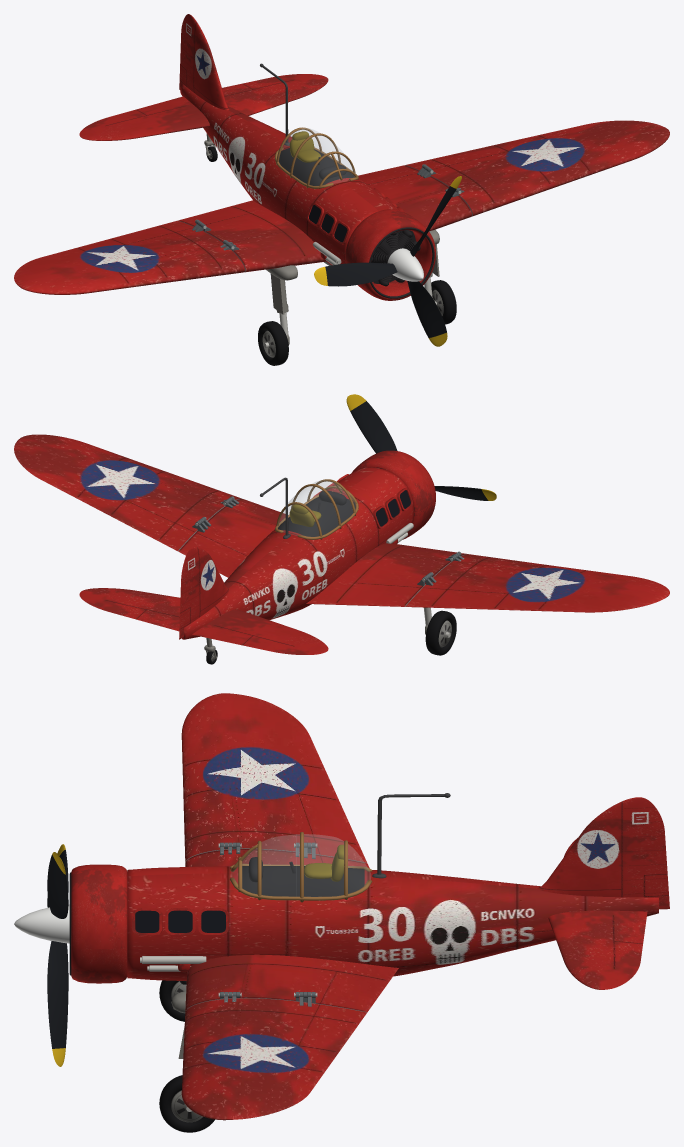
File: enemy_foldwing.glb
3 renders of one model, top to bottom at view 1: azimuth 30°, elevation 25°; view 2: azimuth 150°, elevation 25°; view 3: azimuth 270°, elevation 25°, orthographic. The views are drawn at different scales.
Visible parts, largest first — view 1: Wings_Outer_L, Wings_Outer_R, Fuselage, Wings, Tailplane, Propeller, Cowling, TailFin, Canopy_Glass, Cockpit, Canopy_Frame, Wheel_Main_R (+4 smaller); view 2: Fuselage, Wings_Outer_L, Wings_Outer_R, Wings, Tailplane, TailFin, Canopy_Glass, Cowling, Propeller, Cockpit, Canopy_Frame, Wheel_Main_R (+1 smaller); view 3: Fuselage, Wings_Outer_R, Wings_Outer_L, Wings, TailFin, Cowling, Tailplane, Canopy_Glass, Propeller, Cockpit, Nose_Windows, Canopy_Frame (+4 smaller).
Part boxes in pixels (x1=…): Wings_Outer_L: x1=406, y1=120, x2=669, y2=216; Wings_Outer_R: x1=14, y1=220, x2=244, y2=294; Fuselage: x1=180, y1=84, x2=399, y2=265; Wings: x1=178, y1=165, x2=471, y2=272; Tailplane: x1=79, y1=74, x2=328, y2=140; Propeller: x1=314, y1=176, x2=461, y2=346; Cowling: x1=345, y1=209, x2=435, y2=300; TailFin: x1=179, y1=14, x2=229, y2=110; Canopy_Glass: x1=279, y1=128, x2=354, y2=185; Cockpit: x1=279, y1=131, x2=354, y2=185; Canopy_Frame: x1=275, y1=127, x2=358, y2=188; Wheel_Main_R: x1=258, y1=321, x2=288, y2=365; Fuselage: x1=182, y1=467, x2=414, y2=639; Wings_Outer_L: x1=14, y1=434, x2=241, y2=550; Wings_Outer_R: x1=405, y1=554, x2=669, y2=612; Wings: x1=178, y1=499, x2=467, y2=606; Tailplane: x1=79, y1=588, x2=328, y2=654; TailFin: x1=179, y1=547, x2=229, y2=639; Canopy_Glass: x1=277, y1=480, x2=355, y2=536; Cowling: x1=351, y1=450, x2=435, y2=539; Propeller: x1=346, y1=394, x2=496, y2=500; Cockpit: x1=278, y1=490, x2=355, y2=536; Canopy_Frame: x1=275, y1=479, x2=358, y2=539; Wheel_Main_R: x1=425, y1=610, x2=456, y2=655; Fuselage: x1=127, y1=866, x2=658, y2=980; Wings_Outer_R: x1=181, y1=693, x2=366, y2=862; Wings_Outer_L: x1=181, y1=998, x2=366, y2=1120; Wings: x1=185, y1=849, x2=398, y2=1012; TailFin: x1=537, y1=797, x2=669, y2=909; Cowling: x1=69, y1=864, x2=127, y2=983; Tailplane: x1=548, y1=838, x2=647, y2=989; Canopy_Glass: x1=231, y1=834, x2=370, y2=896; Propeller: x1=14, y1=844, x2=69, y2=1066; Cockpit: x1=242, y1=844, x2=364, y2=896; Nose_Windows: x1=132, y1=908, x2=228, y2=935; Canopy_Frame: x1=229, y1=832, x2=372, y2=902.
Size of the model in its own units: 0.5475 by 0.1694 by 0.3565.
24 materials, 6 textured.
